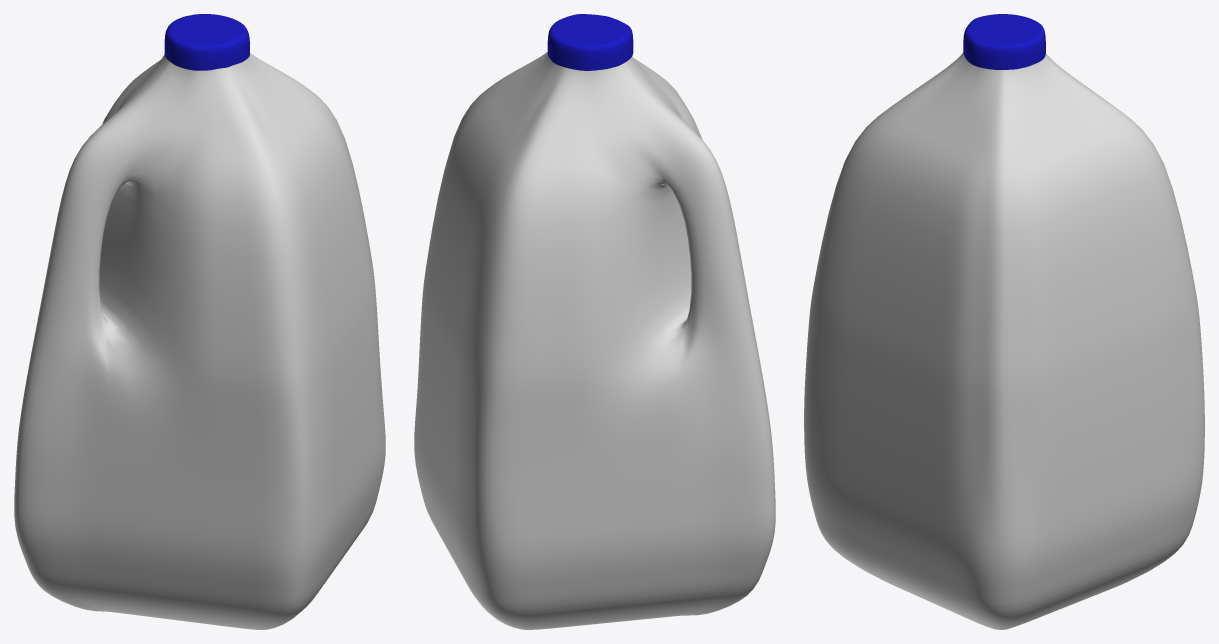
Rendered from milk.fbx.
The picture shows the model from 3 angles, left to right: view 1: azimuth 30°, elevation 25°; view 2: azimuth 150°, elevation 25°; view 3: azimuth 270°, elevation 25°; orthographic projection.
Visible parts, largest first — view 1: new_milk; view 2: new_milk; view 3: new_milk.
Part boxes in pixels (box(x1,y1,x2,y2)): new_milk: box(14, 14, 385, 629); new_milk: box(414, 14, 775, 629); new_milk: box(804, 14, 1204, 629).
Size of the model in its own units: 0.505 by 0.7492 by 0.4946.
